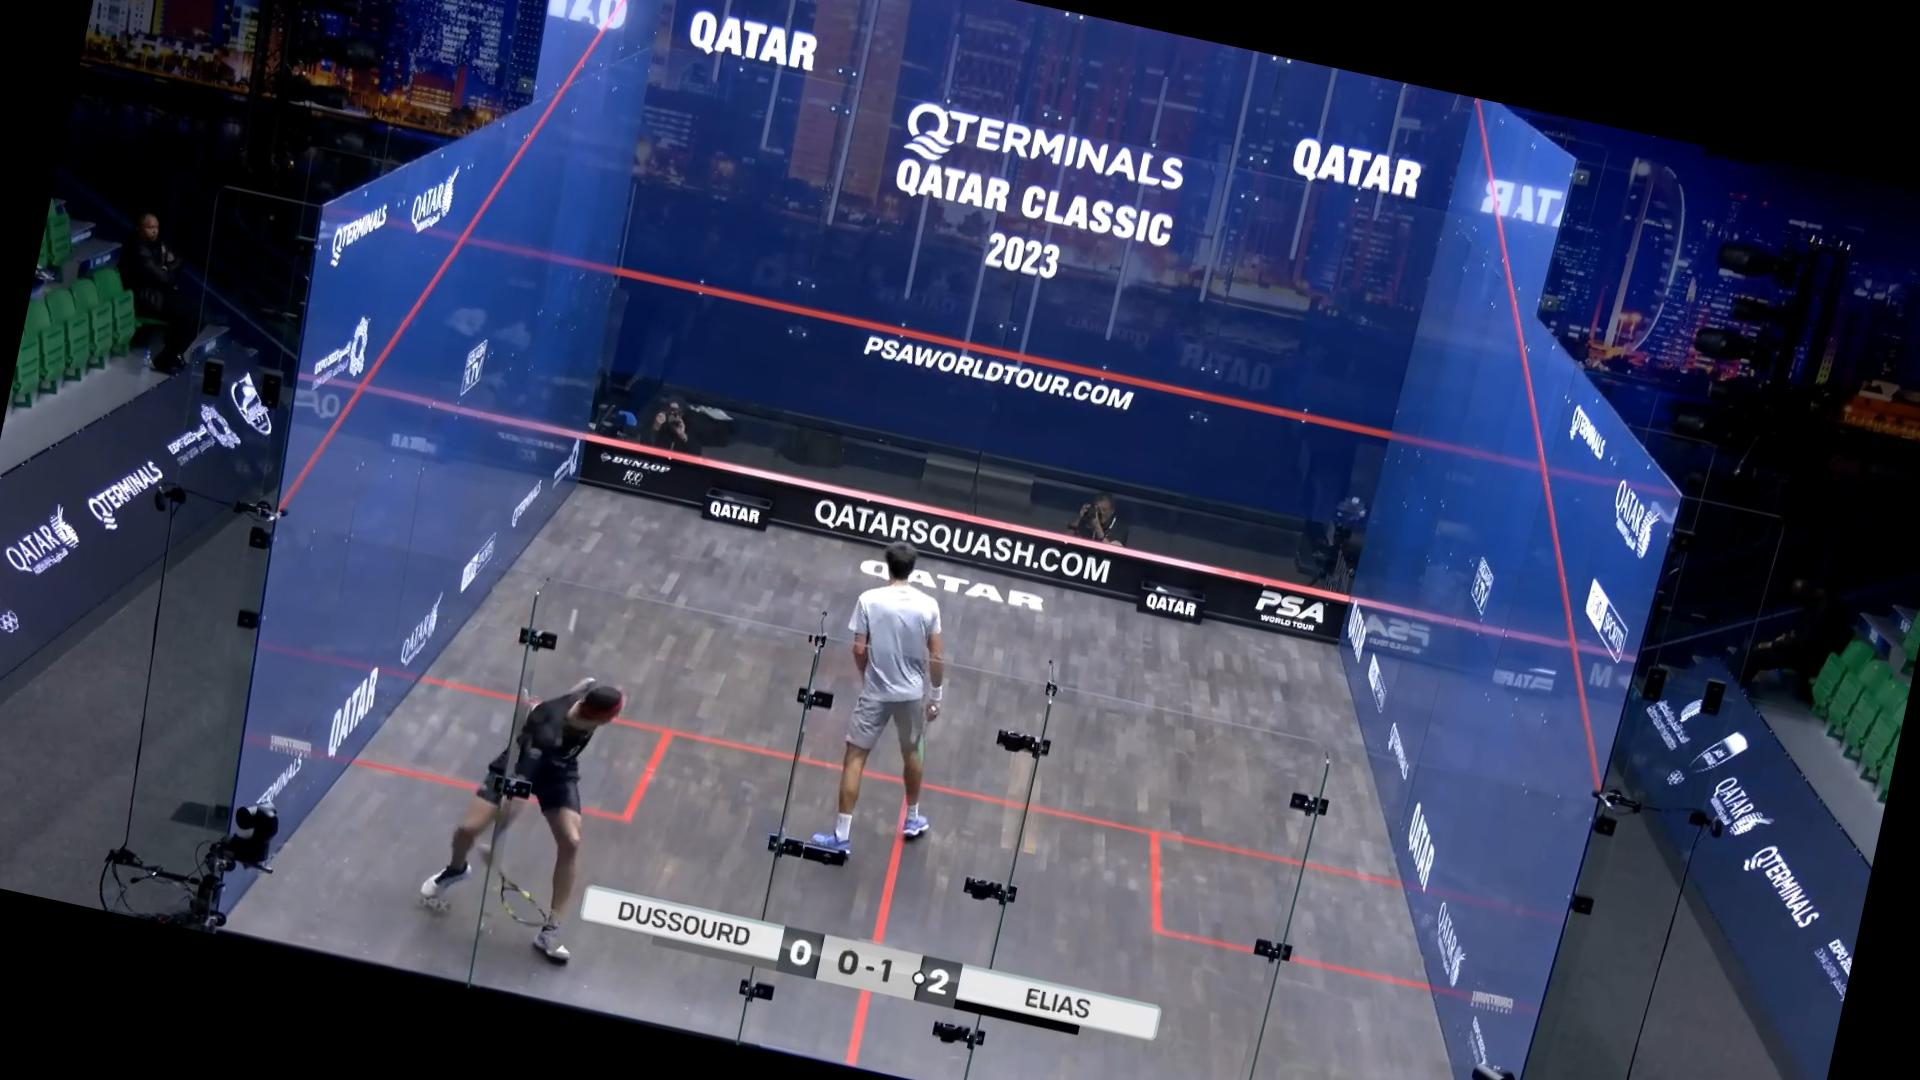Racket: (480, 852, 559, 932)
